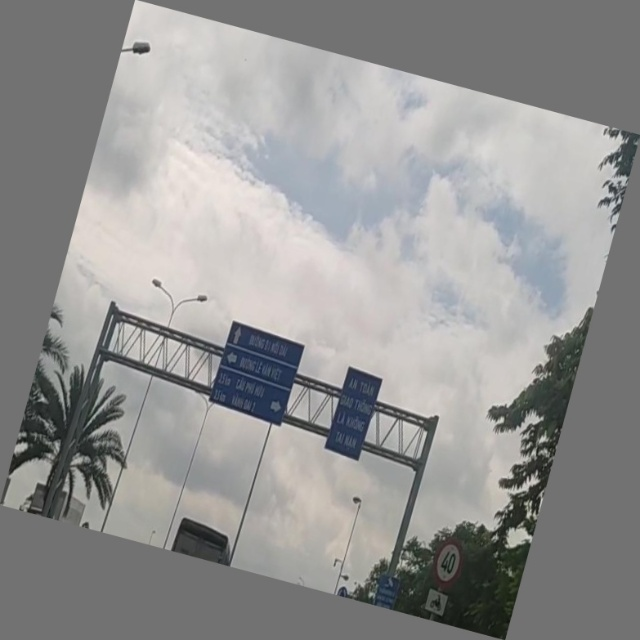P.127*40: (428, 532, 469, 591)
S.505a*Xe may: (422, 587, 451, 618)
